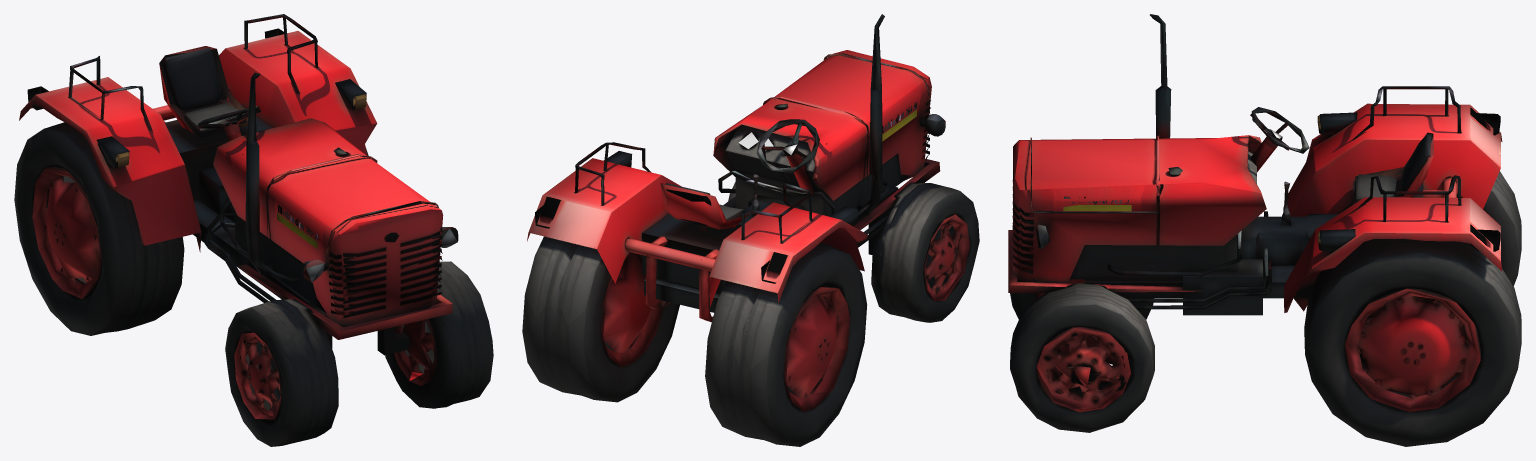
File: hebro.glb
The picture shows the model from 3 angles, left to right: view 1: azimuth 30°, elevation 25°; view 2: azimuth 150°, elevation 25°; view 3: azimuth 270°, elevation 25°; orthographic projection. The views are drawn at different scales.
Parts seen in each view (by area): view 1: body, wheel_br, wheel_fr, wheel_fl; view 2: body, wheel_br, wheel_bl, wheel_fr; view 3: body, wheel_bl, wheel_fl, wheel_br, wheel_fr.
Part boxes in pixels (box(x1,y1,x2,y2)): body: box(19, 14, 458, 355); wheel_br: box(14, 122, 184, 335); wheel_fr: box(225, 299, 338, 446); wheel_fl: box(385, 261, 493, 408); body: box(527, 14, 945, 322); wheel_br: box(705, 242, 867, 446); wheel_bl: box(522, 236, 679, 402); wheel_fr: box(871, 182, 979, 322); body: box(1008, 14, 1502, 315); wheel_bl: box(1304, 239, 1521, 446); wheel_fl: box(1010, 283, 1154, 432); wheel_br: box(1337, 171, 1521, 286); wheel_fr: box(1010, 279, 1153, 351).
Size of the model in its own units: 9.96 by 11.82 by 16.2.
Materials: 1 (1 with a texture image).
